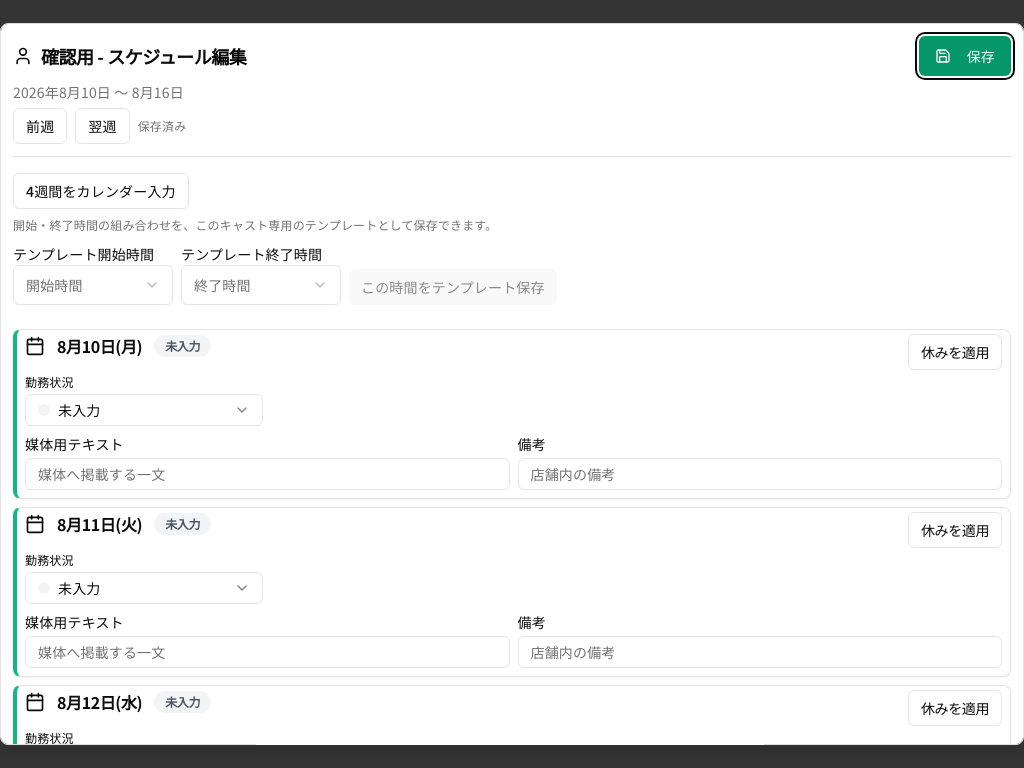
ScheduleEditDialog persistence and navigation › keeps edits after a failed save and asks before discarding
The image size is (1024, 768).
Later steps or results of the test are not shown.
Type "未保存のメモ" into the 1st field labelled "備考". click: (760, 474)
box: left=518, top=458, right=1002, bottom=490
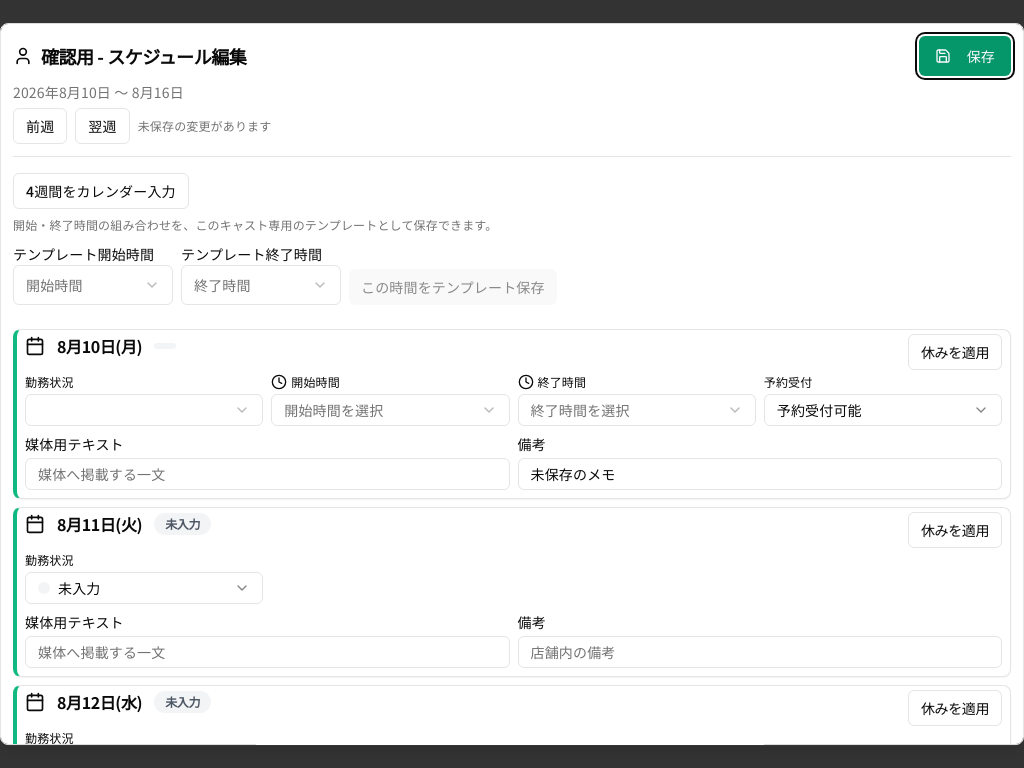
Click the button "保存". click: (965, 56)
box: left=919, top=36, right=1011, bottom=76
(page scrolled)
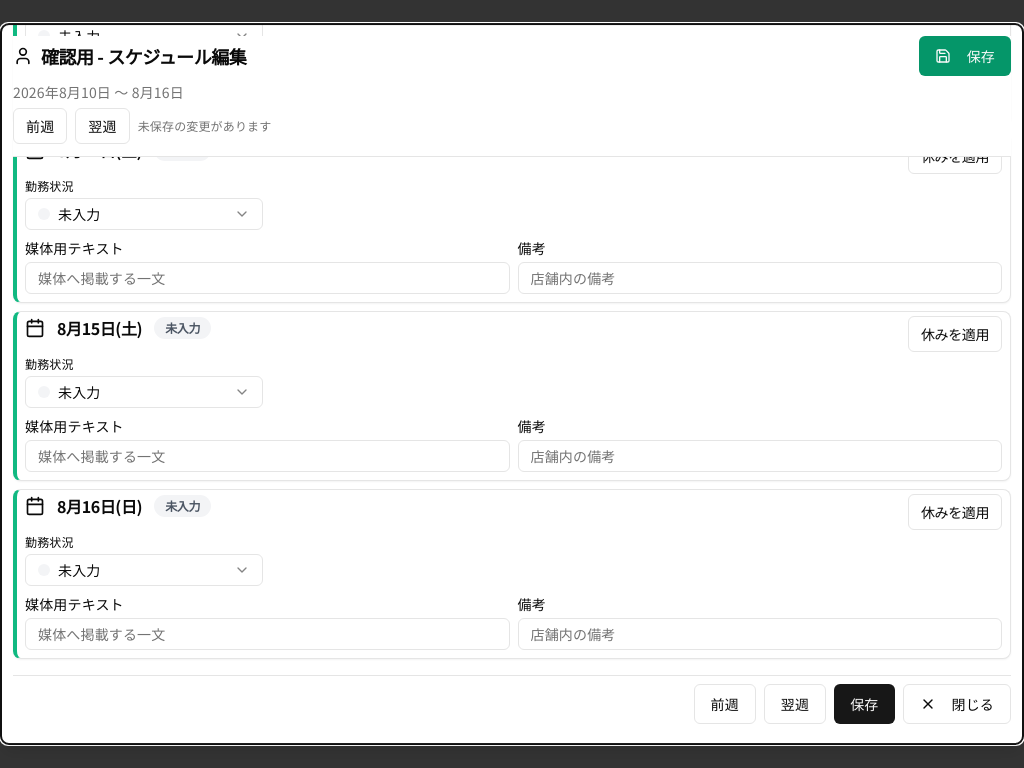
Click the button "閉じる". click: (957, 704)
box: left=902, top=684, right=1011, bottom=724
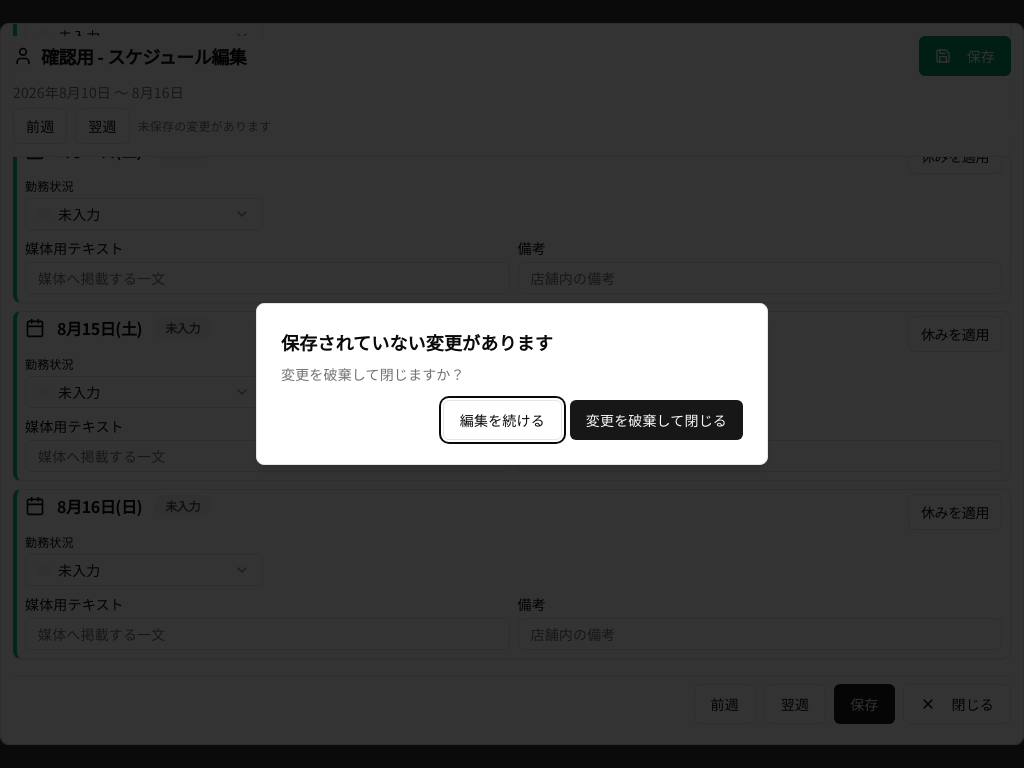
expect the dialog "保存されていない変更があります 変更を破棄して閉じますか？ 編集を続ける 変更を破棄して閉じる" is shown: met, box left=256, top=303, right=768, bottom=465
